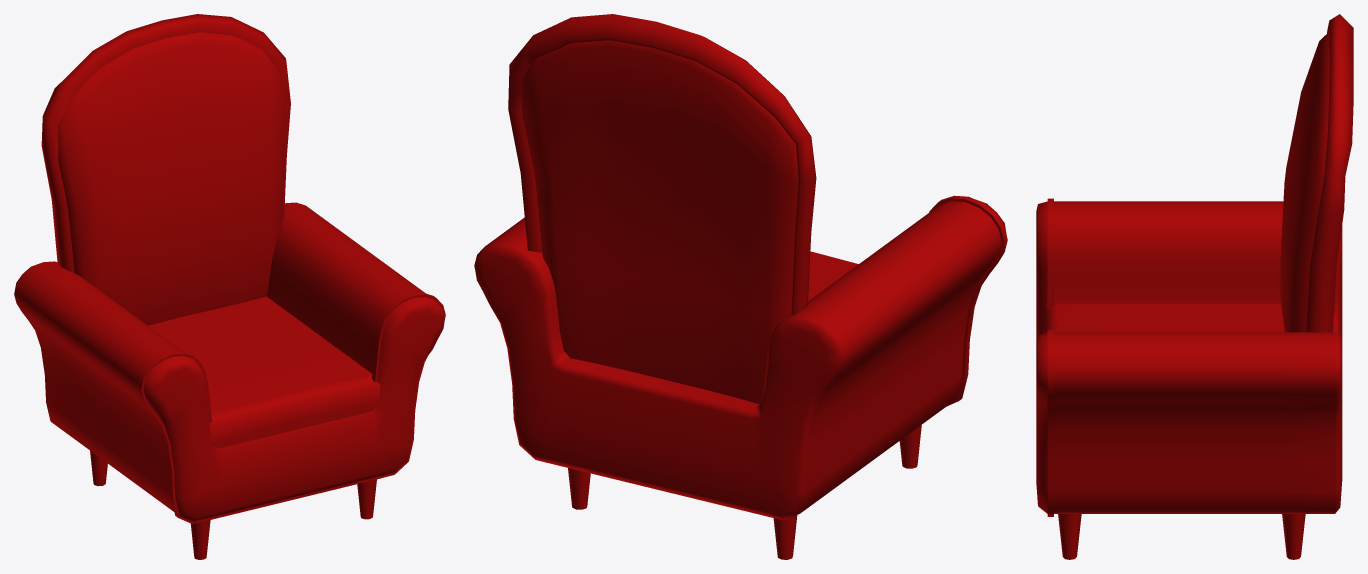
Rendered from SM_Armchair.fbx.
The picture shows the model from 3 angles, left to right: view 1: azimuth 30°, elevation 25°; view 2: azimuth 150°, elevation 25°; view 3: azimuth 270°, elevation 25°; orthographic projection. The views are drawn at different scales.
Visible parts, largest first — view 1: GEO_Armchair; view 2: GEO_Armchair; view 3: GEO_Armchair.
Boxes of the visible parts, bbox=[...] form: GEO_Armchair: bbox=[14, 14, 445, 559]; GEO_Armchair: bbox=[474, 14, 1007, 559]; GEO_Armchair: bbox=[1036, 14, 1353, 559].
Bounding box in the file's own units: 349 × 468 × 284.
